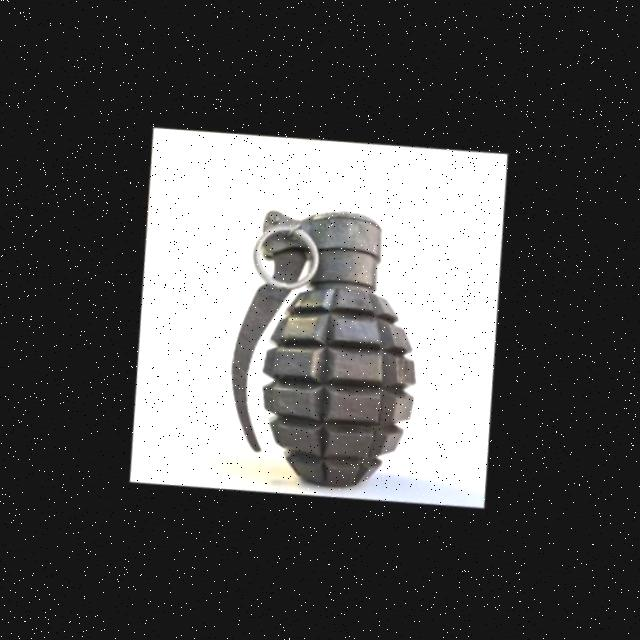grenade: (171, 160, 490, 523)
